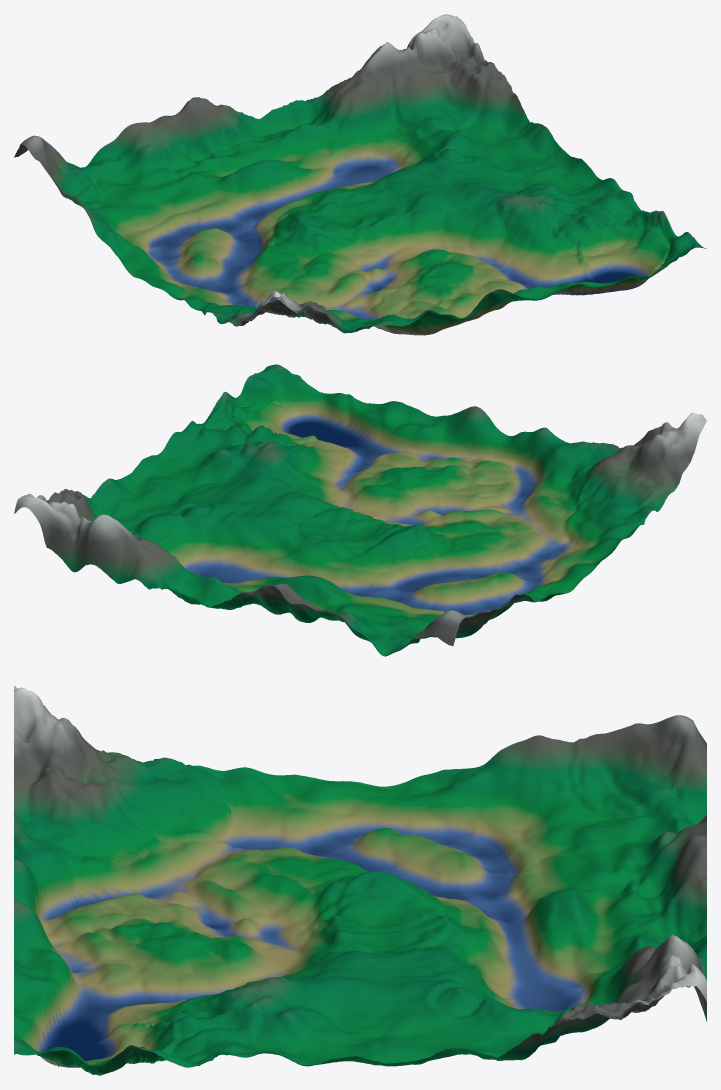
The model's file is landscape5.glb.
3 views of the same model, one above another, from view 1: azimuth 30°, elevation 25°; view 2: azimuth 150°, elevation 25°; view 3: azimuth 270°, elevation 25° (orthographic). The views are drawn at different scales.
Parts seen in each view (by area): view 1: Plane; view 2: Plane; view 3: Plane.
Boxes of the visible parts, bbox=[...] form: Plane: bbox=[14, 14, 705, 335]; Plane: bbox=[14, 364, 706, 656]; Plane: bbox=[14, 685, 706, 1075].
Size of the model in its own units: 20 by 4.01 by 20.
